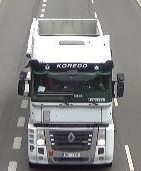truck: (28, 17, 113, 167)
